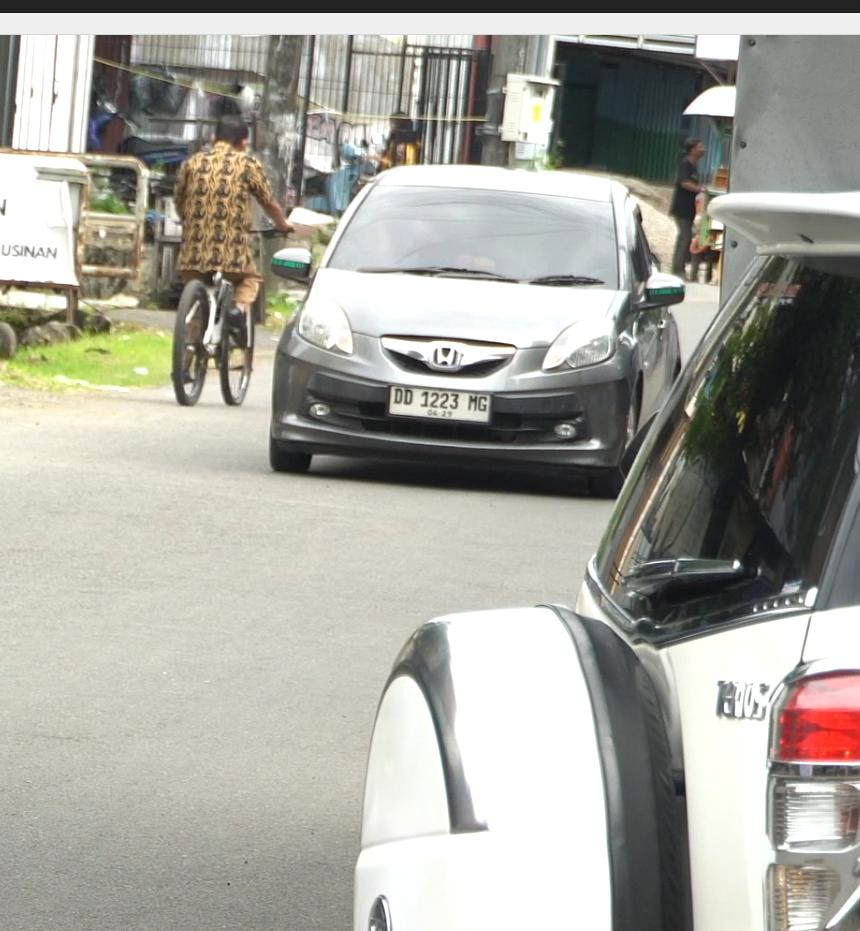number-plate: (383, 383, 494, 426)
